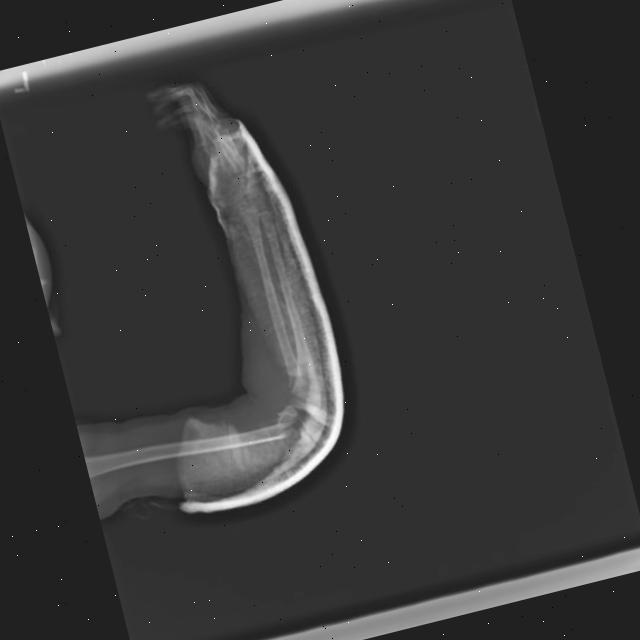fractured: (271, 401, 311, 443)
